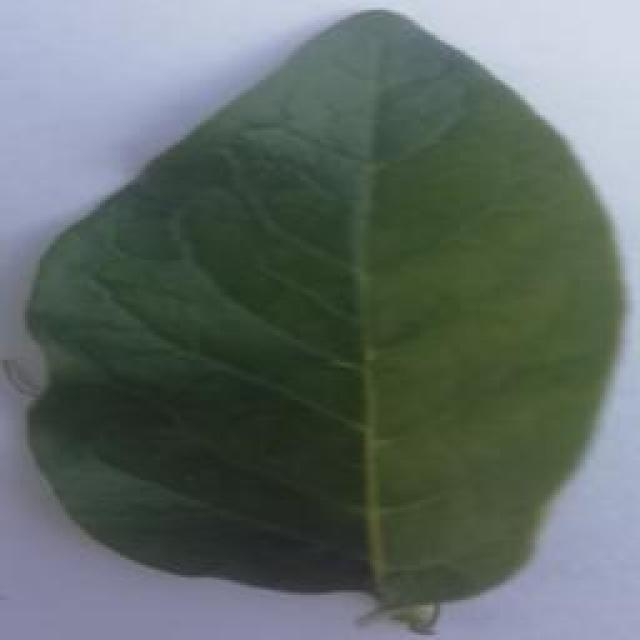Potato_Healthy: (18, 10, 619, 626)
